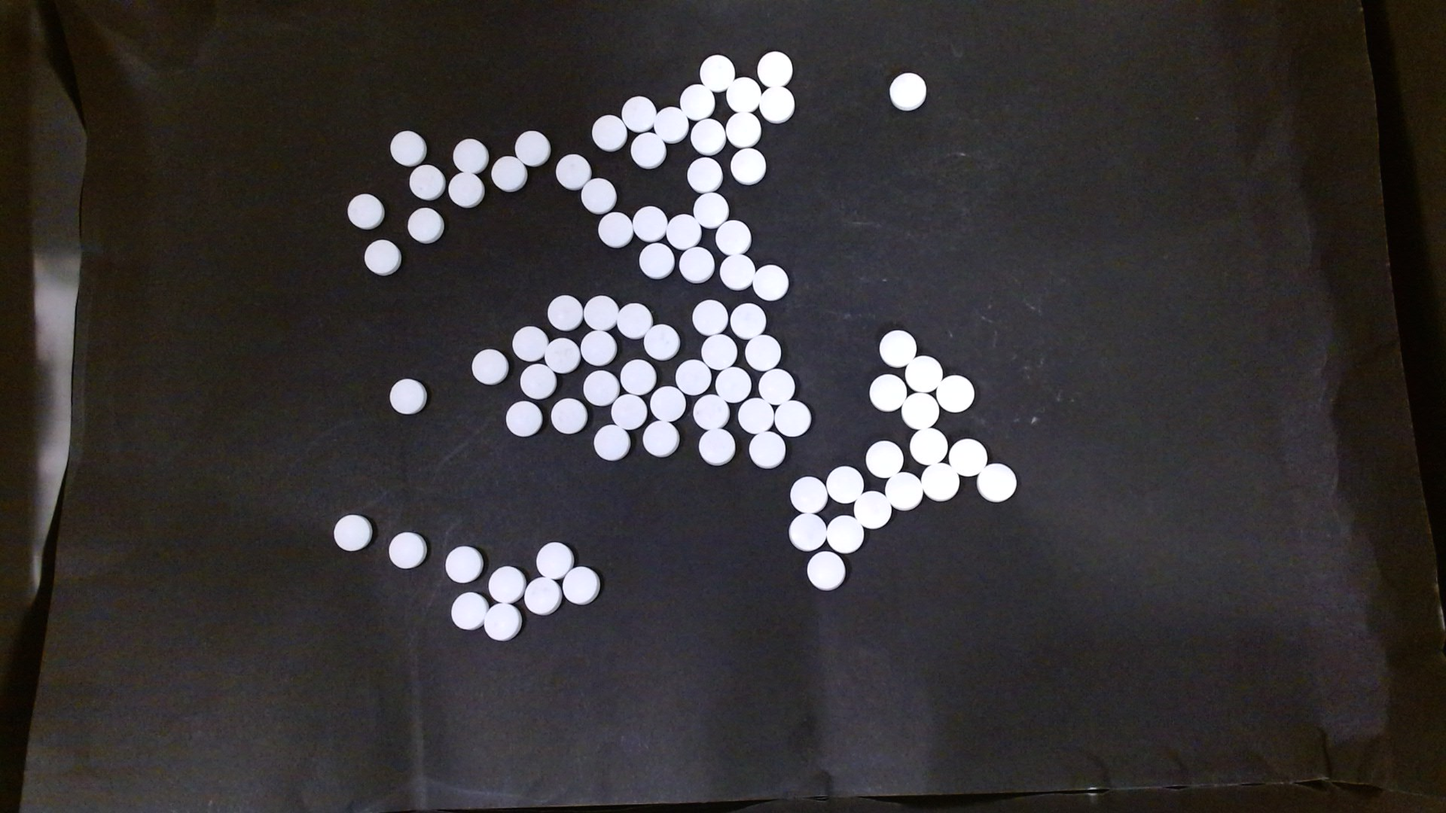Circle: (807, 551, 847, 591), (976, 463, 1017, 502), (333, 513, 373, 552), (444, 545, 483, 584), (868, 373, 906, 412), (901, 391, 940, 429), (936, 375, 975, 413), (878, 329, 917, 367), (562, 566, 600, 605), (388, 531, 427, 569), (790, 476, 828, 514), (488, 565, 526, 603), (535, 541, 573, 579), (789, 513, 827, 551), (450, 591, 488, 629), (752, 263, 789, 301), (865, 440, 902, 478), (920, 462, 958, 499), (949, 438, 987, 475), (885, 471, 922, 509), (826, 466, 863, 504), (698, 428, 735, 466), (389, 378, 427, 415), (889, 72, 926, 110), (758, 85, 795, 122), (773, 400, 810, 437), (854, 492, 891, 529), (364, 239, 401, 276), (389, 129, 426, 166), (524, 576, 560, 614), (729, 147, 765, 184), (689, 117, 725, 154), (630, 132, 666, 169), (514, 129, 550, 166), (505, 400, 541, 437), (910, 428, 947, 464), (471, 349, 508, 385), (642, 420, 679, 456), (750, 431, 786, 468), (551, 397, 587, 434), (692, 298, 728, 335), (610, 393, 647, 429), (757, 50, 793, 87), (826, 515, 862, 552), (593, 425, 630, 461), (484, 604, 520, 641), (490, 156, 526, 192), (580, 330, 616, 366), (407, 207, 443, 243), (452, 138, 488, 174), (597, 212, 633, 248), (715, 219, 751, 255), (730, 301, 766, 337), (347, 193, 383, 229), (556, 153, 591, 190), (720, 254, 755, 291), (591, 114, 626, 151), (758, 368, 795, 403), (449, 172, 484, 208), (409, 164, 445, 199), (905, 356, 941, 391), (745, 335, 781, 370), (620, 358, 655, 394), (693, 191, 728, 227), (520, 363, 556, 398), (621, 96, 656, 132), (583, 294, 618, 330), (512, 325, 548, 360), (701, 333, 736, 369), (547, 294, 582, 330), (694, 394, 729, 430), (687, 156, 721, 193), (700, 53, 734, 90), (584, 370, 619, 405), (738, 397, 773, 432), (581, 178, 615, 214), (680, 83, 714, 119), (679, 247, 713, 283), (675, 358, 709, 394), (639, 242, 673, 277), (715, 367, 749, 402), (726, 111, 759, 147), (633, 205, 667, 239), (617, 302, 651, 336), (651, 385, 685, 419), (545, 338, 578, 373), (654, 105, 687, 140), (644, 324, 677, 358), (667, 214, 699, 248), (726, 78, 758, 111)
